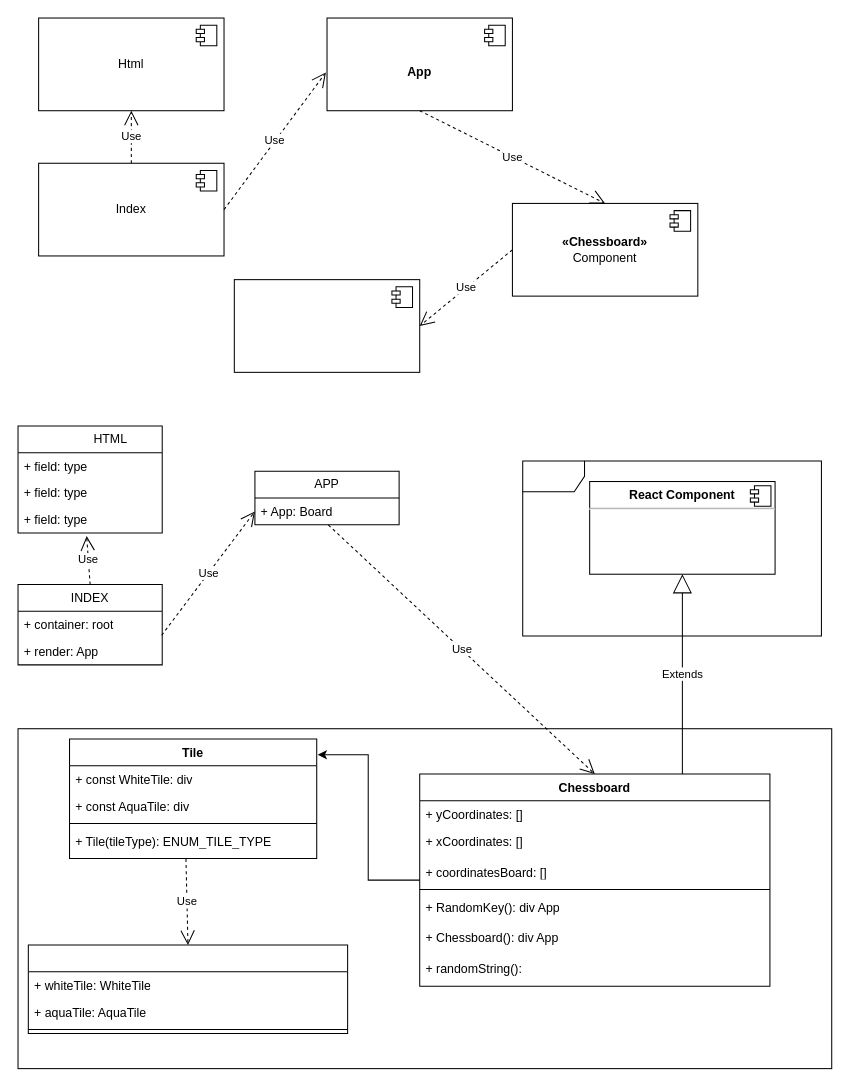
Some shapes in this 850 by 1087 pixel diagram are drawn without their labels. The box of each missing label's shape, as (x1, y1, x2, y2) in pixels:
<<Enumeration>>TILE_TYPE: (27, 944, 348, 1034)
frame: (522, 460, 821, 636)
« Tile » Component: (233, 279, 420, 372)
